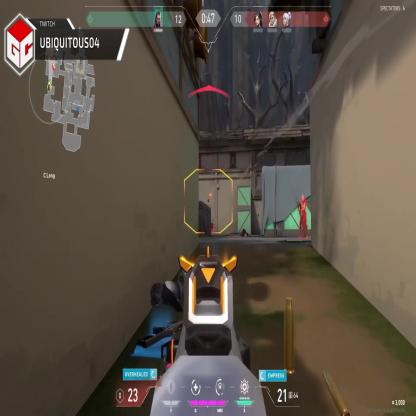enemy: (298, 195, 308, 239), (209, 222, 213, 235)
enemy_head: (301, 194, 305, 202)
